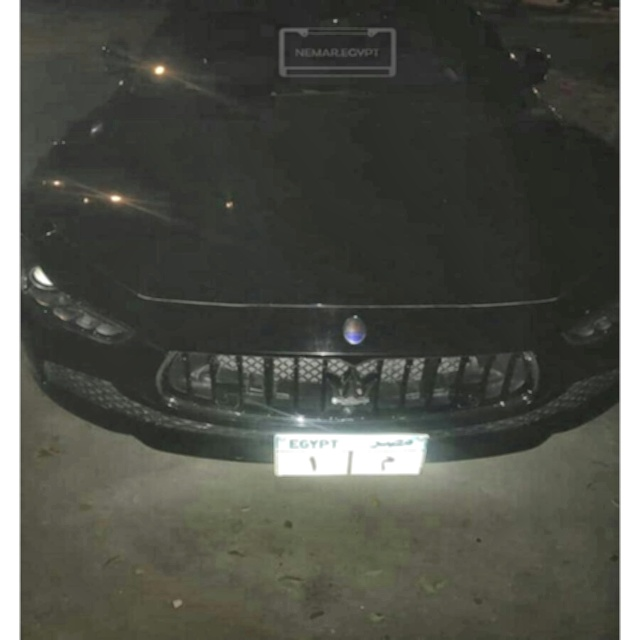License Plate: (272, 431, 430, 481)
